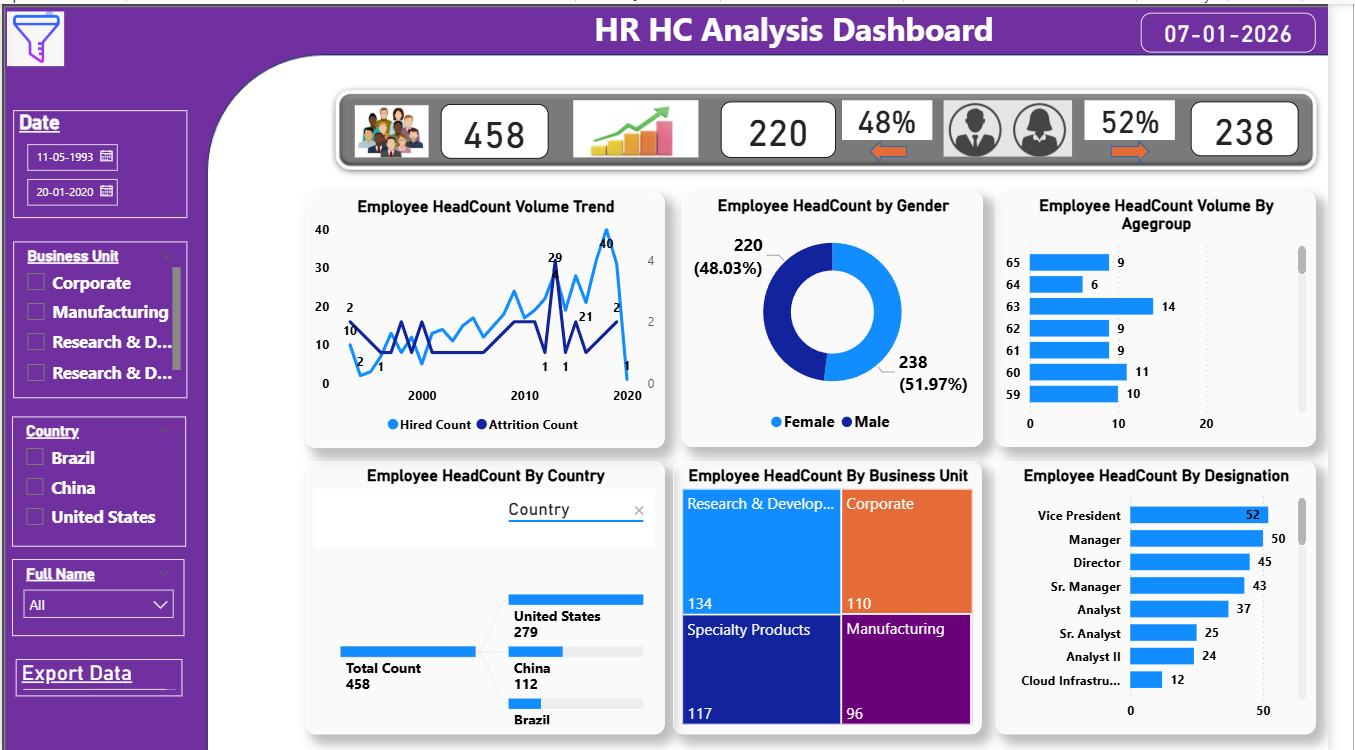

Layout of this report page (visuals, bound fields, positions):
{"tool":"powerbi","page":{"name":"HR Analysis","canvas":[1280,720],"ordinal":1},"visuals":[{"type":"card","fields":{"Values":["Employee Data.Total_Count"]},"box":[423.5,96.5,103.8,53.1],"z":0},{"type":"image","box":[322.1,92.9,108.6,60.3],"z":1000},{"type":"lineChart","title":"Employee HeadCount Volume Trend","fields":{"Category":["Employee Data.Hire Date.Variation.Date Hierarchy.Year"],"Y":["CountNonNull(Employee Data.Employee ID)"],"Y2":["CountNonNull(Employee Data.End Date)"]},"box":[293.2,182.2,346.2,246.1],"z":2000},{"type":"donutChart","title":"Employee HeadCount by Gender","fields":{"Category":["Employee Data.Gender"],"Y":["CountNonNull(Employee Data.Employee ID)"]},"box":[656.3,181,290.8,246.1],"z":3000},{"type":"clusteredBarChart","title":"Employee HeadCount Volume By Agegroup","fields":{"Category":["Employee Data.Age"],"Y":["CountNonNull(Employee Data.Employee ID)"]},"box":[959.1,181,308.8,246.1],"z":4000},{"type":"decompositionTreeVisual","title":"Employee HeadCount By Country","fields":{"Analyze":["CountNonNull(Employee Data.Country)"],"ExplainBy":["Employee Data.Country"]},"box":[293.2,441.6,346.2,263],"z":5000},{"type":"treemap","title":"Employee HeadCount By Business Unit","fields":{"Group":["Employee Data.Business Unit"],"Values":["CountNonNull(Employee Data.Employee ID)"]},"box":[647.9,441.6,298,263],"z":6000},{"type":"clusteredBarChart","title":"Employee HeadCount By Designation","fields":{"Category":["Employee Data.Job Title"],"Y":["CountNonNull(Employee Data.Employee ID)"]},"box":[959.1,441.6,308.8,263],"z":7000},{"type":"image","box":[897.6,88.1,147.2,63.9],"z":8000},{"type":"card","fields":{"Values":["Employee Data.MaleHC%"]},"box":[810.7,92.9,86.9,38.6],"z":9000},{"type":"shape","box":[837.3,131.5,36.2,21.7],"z":10000},{"type":"card","fields":{"Values":["Employee Data.FemaleHC%"]},"box":[1044.8,92.9,86.9,38.6],"z":11000},{"type":"shape","box":[1070.1,131.5,37.4,21.7],"z":12000},{"type":"card","fields":{"Values":["Employee Data.Total_Male_Count"]},"box":[693.7,94.1,111,54.3],"z":13000},{"type":"card","fields":{"Values":["Employee Data.Total_Female_Count"]},"box":[1147.3,94.1,103.8,53.1],"z":14000},{"type":"image","box":[546.5,88.1,130.3,65.1],"z":15000},{"type":"shape","title":"Hr Hc Analysis Dashboard","box":[396.9,0,734.7,47.1],"z":16000},{"type":"slicer","fields":{"Values":["Employee Data.Business Unit"]},"box":[10.9,229.2,167.7,150.8],"z":17000},{"type":"slicer","fields":{"Values":["Employee Data.Country"]},"box":[9.7,398.1,167.7,125.5],"z":18000},{"type":"slicer","fields":{"Values":["Employee Data.Full Name"]},"box":[9.7,535.7,166.5,74.8],"z":19000},{"type":"slicer","title":"Date","fields":{"Values":["Employee Data.Hire Date"]},"box":[10.9,102.5,167.7,103.8],"z":20000},{"type":"card","fields":{"Values":["Min(Last Refresh.Date)"]},"box":[1099.1,8.4,168.9,38.6],"z":21000},{"type":"image","box":[0,0,65.1,67.6],"z":21001},{"type":"tableEx","title":"Export Data","fields":{"Values":["Employee Data.Full Name","Employee Data.Gender","Employee Data.Employee ID"]},"box":[13.3,632.2,160.5,36.2],"z":21002}]}

Visuals, with their boxes in screenshot pixels (x1, y1, x2, y2), scaled from the page's 1280x720 canvas onto the 1355x750 screenshot:
card - Employee Data.Total_Count: 448 101 558 156
image: 341 97 456 160
"Employee HeadCount Volume Trend" lineChart: 310 190 677 446
"Employee HeadCount by Gender" donutChart: 695 189 1003 445
"Employee HeadCount Volume By Agegroup" clusteredBarChart: 1015 189 1342 445
"Employee HeadCount By Country" decompositionTreeVisual: 310 460 677 734
"Employee HeadCount By Business Unit" treemap: 686 460 1001 734
"Employee HeadCount By Designation" clusteredBarChart: 1015 460 1342 734
image: 950 92 1106 158
card - Employee Data.MaleHC%: 858 97 950 137
shape: 886 137 925 160
card - Employee Data.FemaleHC%: 1106 97 1198 137
shape: 1133 137 1172 160
card - Employee Data.Total_Male_Count: 734 98 852 155
card - Employee Data.Total_Female_Count: 1215 98 1324 153
image: 579 92 716 160
"Hr Hc Analysis Dashboard" shape: 420 0 1198 49
slicer - Employee Data.Business Unit: 12 239 189 396
slicer - Employee Data.Country: 10 415 188 545
slicer - Employee Data.Full Name: 10 558 187 636
"Date" slicer: 12 107 189 215
card - Min(Last Refresh.Date): 1164 9 1342 49
image: 0 0 69 70
"Export Data" tableEx: 14 659 184 696
